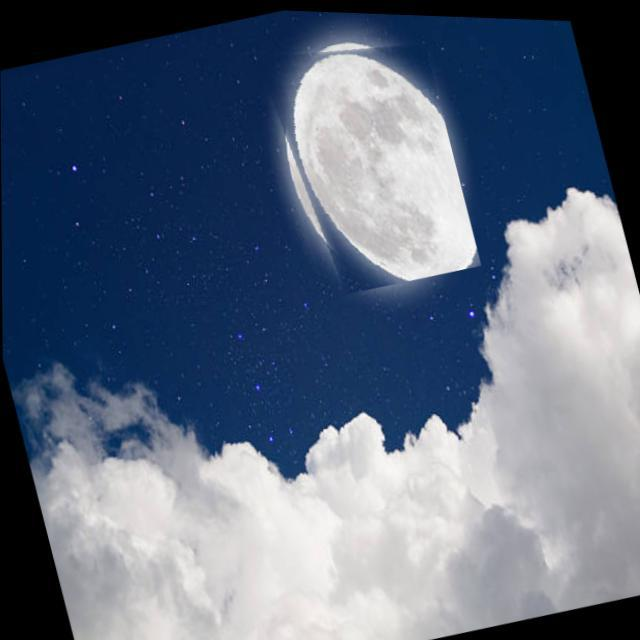moon: (255, 14, 481, 302)
